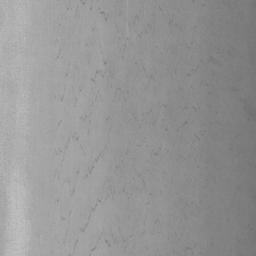Silk spot: (244, 106, 256, 121), (98, 8, 109, 22), (85, 166, 95, 178), (80, 222, 89, 232)
